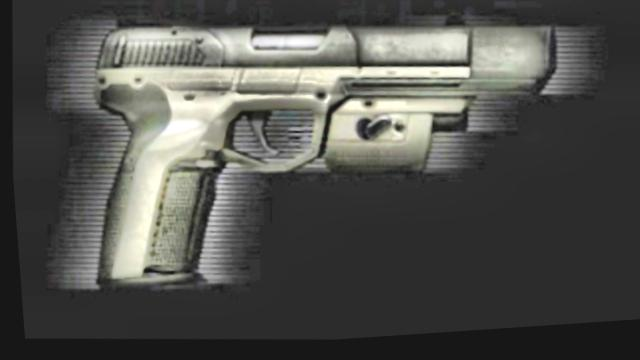pistol: (66, 0, 573, 328)
